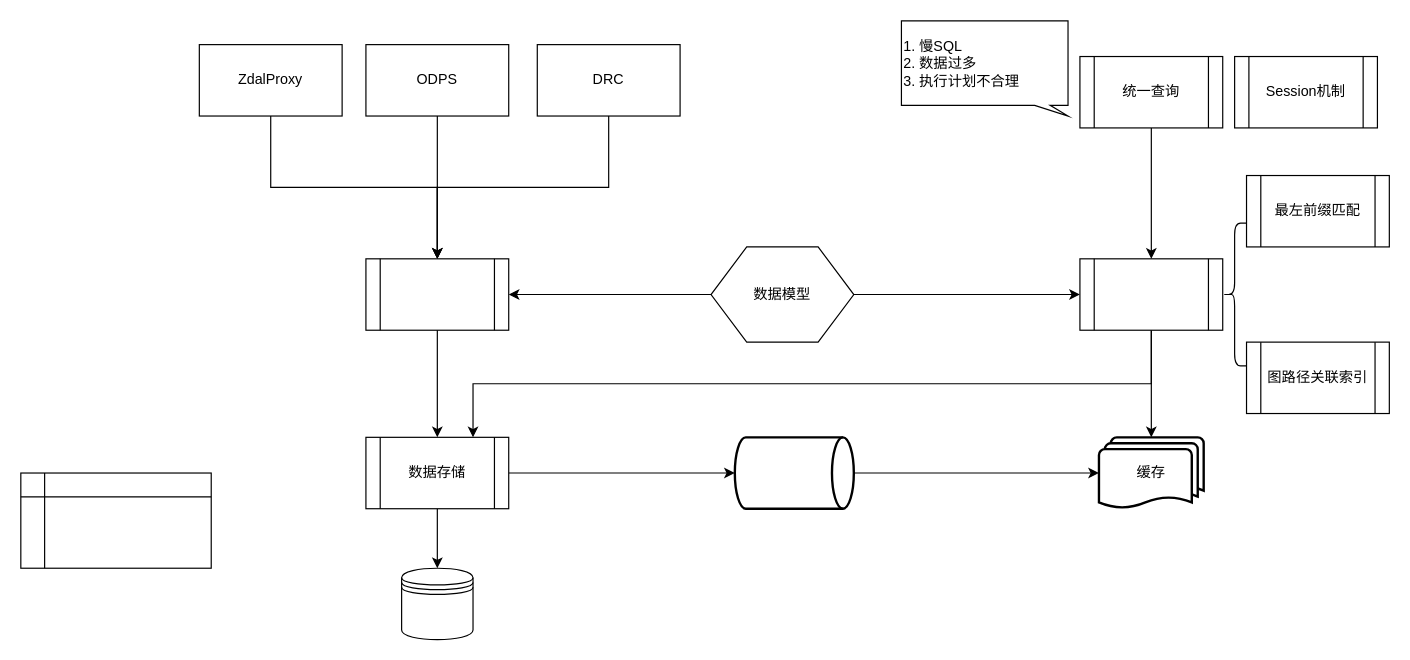
The diagram is 1410 pixels wide and 660 high, and some of its shapes have lost their labels. The centre of each missing label's shape, as x and y in pixels:
"AntQ" goes at point (793, 472).
"主存" goes at point (436, 603).
"数据质量" goes at point (115, 520).
"索引路由" goes at point (1151, 294).
"转换层" goes at point (437, 294).
